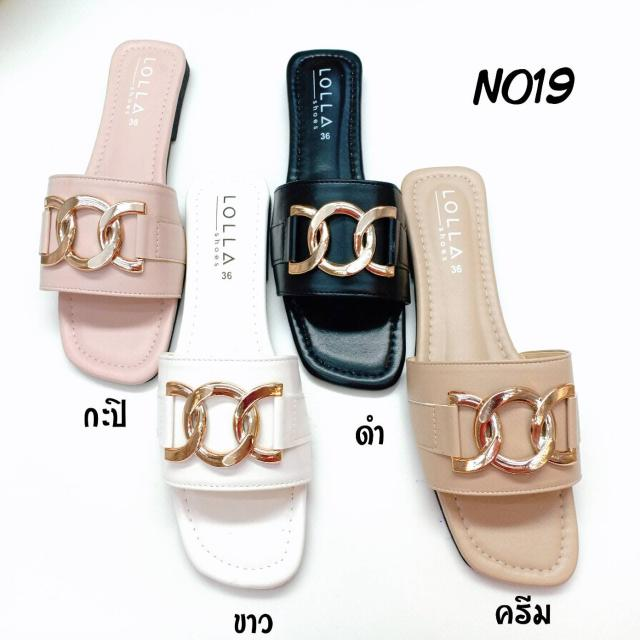black: (277, 38, 404, 408)
cream: (400, 147, 574, 587)
kapi: (35, 15, 186, 391)
white: (154, 154, 316, 600)
